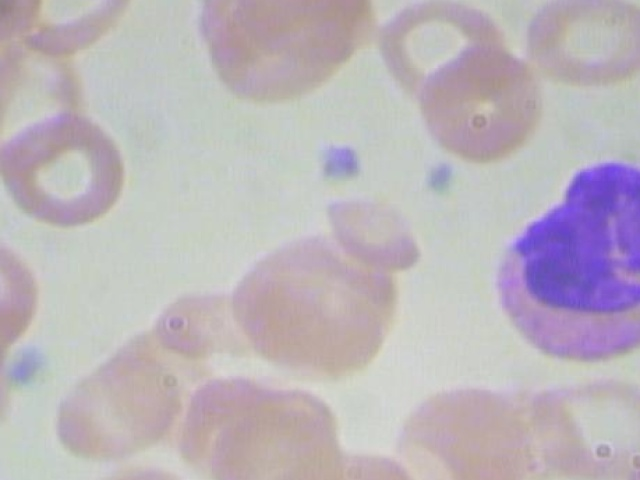Platelets: (314, 136, 378, 193), (5, 339, 63, 388)
RBC: (411, 46, 553, 169), (0, 109, 134, 226), (392, 382, 536, 480), (510, 0, 640, 90), (322, 195, 438, 269), (0, 286, 21, 436), (619, 441, 640, 480)
WBC: (477, 135, 640, 369)
